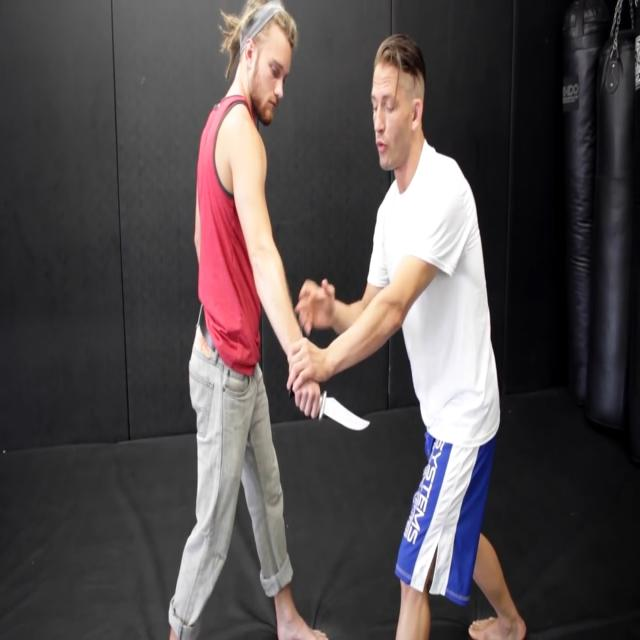knife: (317, 386, 375, 437)
